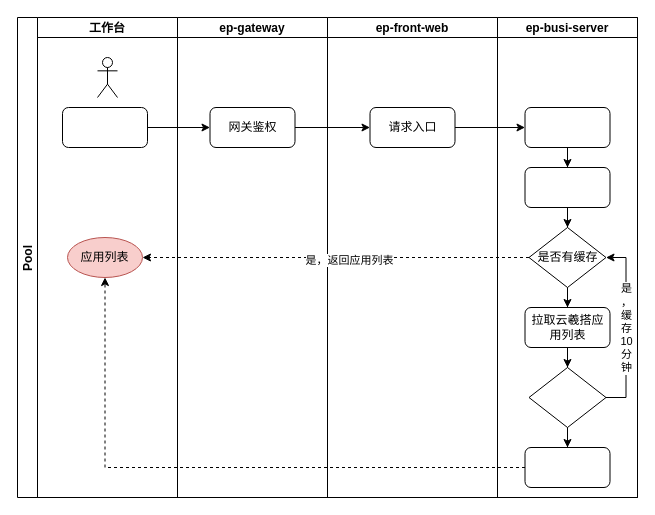
Some shapes in this 655 by 515 pixel diagram are drawn without their labels. Each missing label, with the centre of its shape:
"redis缓存" belongs at point 567,187.
"是否有 自建应用" belongs at point 567,397.
"自建应用" belongs at point 105,127.
"自建应用查询" belongs at point 567,127.
"返回" belongs at point 567,467.
